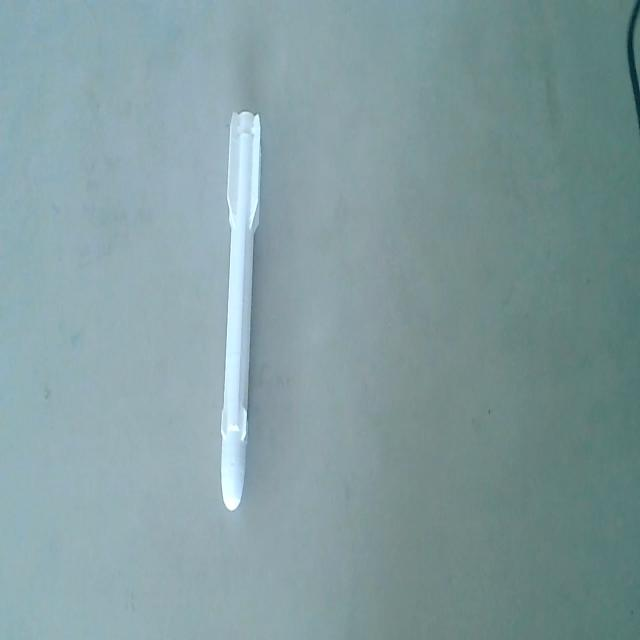Rocket: (220, 108, 267, 517)
